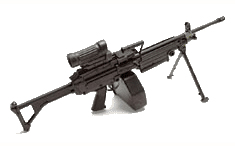rifle: (4, 15, 227, 132)
